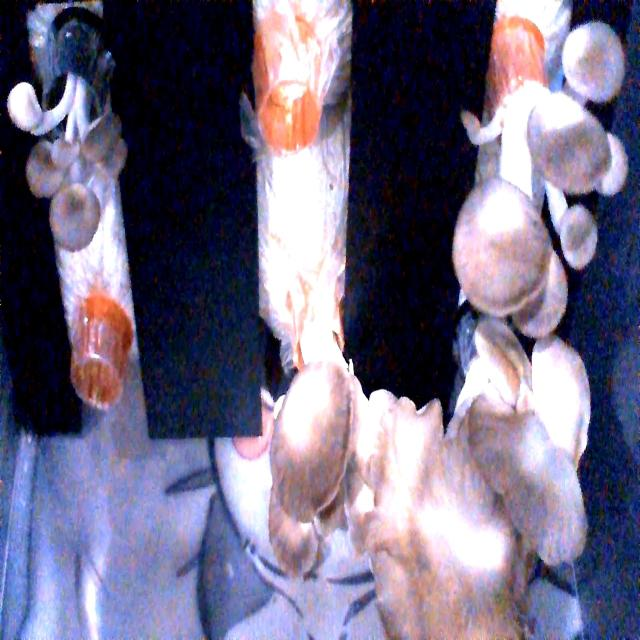big: (371, 333, 609, 640), (462, 22, 640, 328), (256, 360, 406, 588)
nfound: (58, 336, 138, 424), (259, 79, 329, 178)
small: (0, 57, 157, 248)
